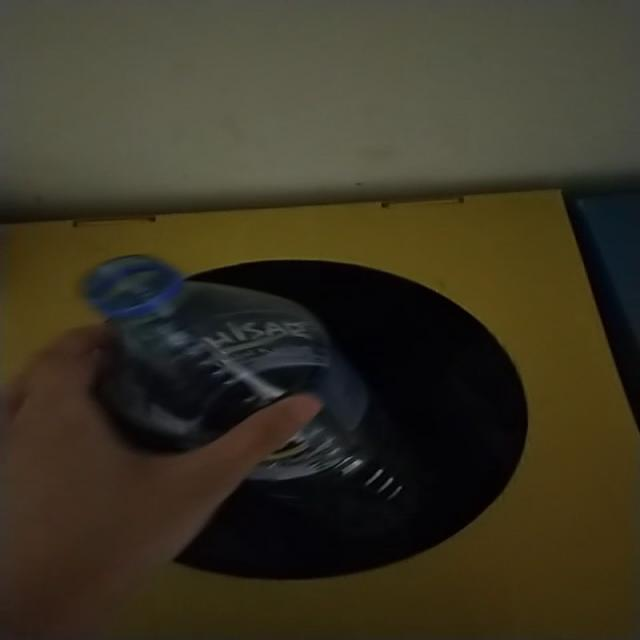plastic: (83, 256, 407, 508)
